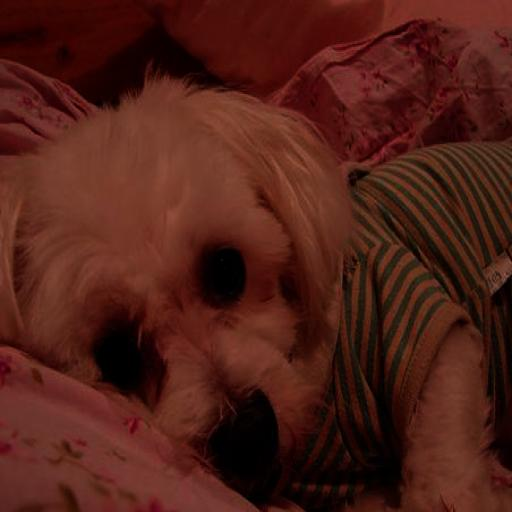dog_face: (5, 89, 342, 488)
